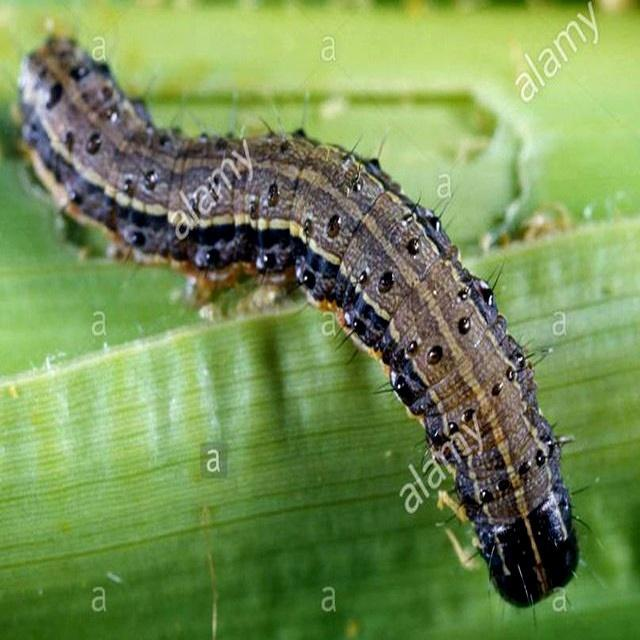Plaga: (4, 33, 595, 618)
